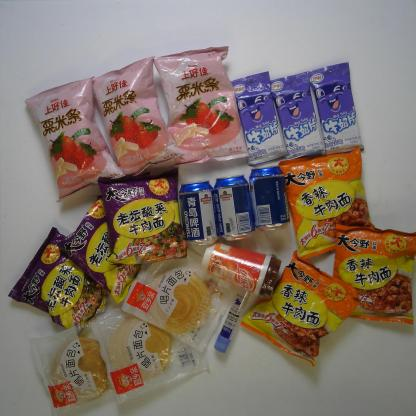Alcohol: (176, 179, 218, 247), (249, 165, 292, 231), (214, 172, 254, 241)
Candy: (229, 70, 288, 166), (267, 71, 327, 161), (309, 61, 364, 154)
Dessert: (88, 289, 212, 405), (121, 238, 239, 354), (28, 303, 134, 413)
Instant Drink: (199, 244, 282, 298)
Instant Noodles: (239, 250, 361, 368), (7, 225, 114, 336), (55, 189, 154, 304), (276, 146, 375, 260), (327, 222, 415, 328), (98, 167, 190, 266)
Puffed Food: (21, 75, 127, 204), (151, 45, 251, 168), (88, 54, 181, 178)
Stationery: (212, 288, 252, 353)
